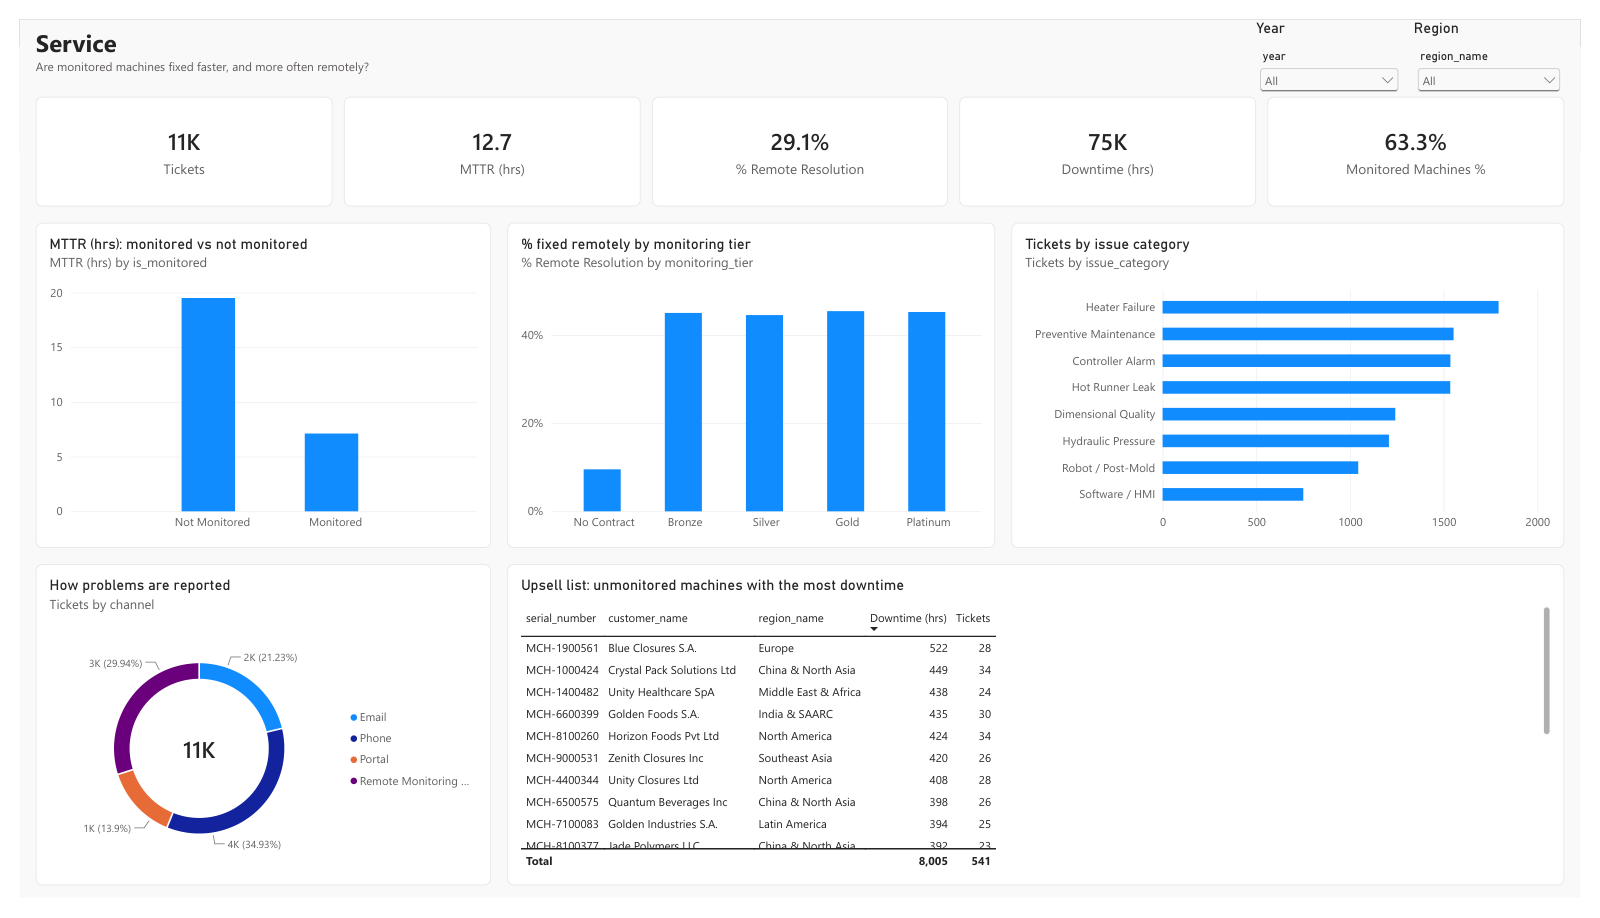

Layout of this report page (visuals, bound fields, positions):
{"tool":"powerbi","page":{"name":"Service","canvas":[1920,1080],"ordinal":1},"visuals":[{"type":"textbox","box":[20,8,1480,74],"z":0},{"type":"slicer","title":"Year","fields":{"Values":["dim_date.year"]},"box":[1521,0,180,95],"z":1},{"type":"slicer","title":"Region","fields":{"Values":["dim_region.region_name"]},"box":[1715,0,185,95],"z":2},{"type":"card","fields":{"Values":["_Measures.Tickets"]},"box":[20,95,364.8,135],"z":3},{"type":"card","fields":{"Values":["_Measures.MTTR (hrs)"]},"box":[398.8,95,364.8,135],"z":4},{"type":"card","fields":{"Values":["_Measures.% Remote Resolution"]},"box":[777.6,95,364.8,135],"z":5},{"type":"card","fields":{"Values":["_Measures.Downtime (hrs)"]},"box":[1156.4,95,364.8,135],"z":6},{"type":"card","fields":{"Values":["_Measures.Monitored Machines %"]},"box":[1535.2,95,364.8,135],"z":7},{"type":"clusteredColumnChart","title":"MTTR (hrs): monitored vs not monitored","fields":{"Category":["dim_machine.is_monitored"],"Y":["_Measures.MTTR (hrs)"]},"box":[20,250,560,400],"z":8},{"type":"clusteredColumnChart","title":"% fixed remotely by monitoring tier","fields":{"Category":["dim_machine.monitoring_tier"],"Y":["_Measures.% Remote Resolution"]},"box":[600,250,600,400],"z":9},{"type":"clusteredBarChart","title":"Tickets by issue category","fields":{"Category":["fact_service_ticket.issue_category"],"Y":["_Measures.Tickets"]},"box":[1220,250,680,400],"z":10},{"type":"donutChart","title":"How problems are reported","fields":{"Category":["fact_service_ticket.channel"],"Y":["_Measures.Tickets"]},"box":[20,670,560,395],"z":11},{"type":"tableEx","title":"Upsell list: unmonitored machines with the most downtime","fields":{"Values":["dim_machine.serial_number","dim_customer.customer_name","dim_region.region_name","_Measures.Downtime (hrs)","_Measures.Tickets"]},"box":[600,670,1300,395],"z":12}]}

Visuals, with their boxes in screenshot pixels (x1, y1, x2, y2), scaled from the page's 1920x1080 canvas onto the 1600x918 screenshot:
textbox: (17,7,1250,70)
"Year" slicer: (1268,0,1418,81)
"Region" slicer: (1429,0,1583,81)
card - _Measures.Tickets: (17,81,321,196)
card - _Measures.MTTR (hrs): (332,81,636,196)
card - _Measures.% Remote Resolution: (648,81,952,196)
card - _Measures.Downtime (hrs): (964,81,1268,196)
card - _Measures.Monitored Machines %: (1279,81,1583,196)
"MTTR (hrs): monitored vs not monitored" clusteredColumnChart: (17,212,483,552)
"% fixed remotely by monitoring tier" clusteredColumnChart: (500,212,1000,552)
"Tickets by issue category" clusteredBarChart: (1017,212,1583,552)
"How problems are reported" donutChart: (17,570,483,905)
"Upsell list: unmonitored machines with the most downtime" tableEx: (500,570,1583,905)
